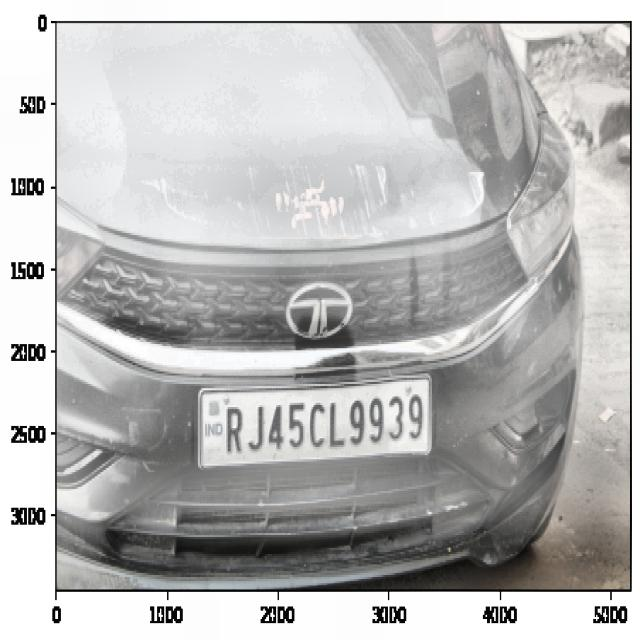license_plate: (218, 381, 427, 457)
